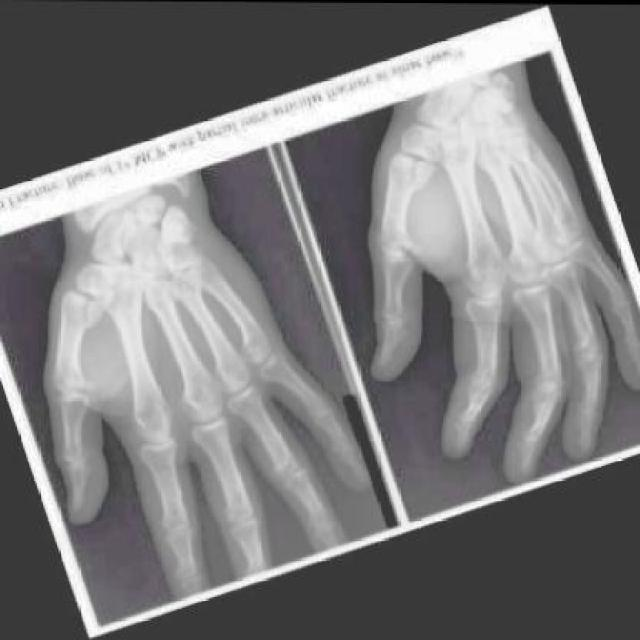Fracture: (69, 283, 123, 340), (396, 149, 445, 205)
